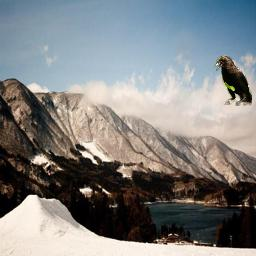Crow: (214, 55, 252, 106)
